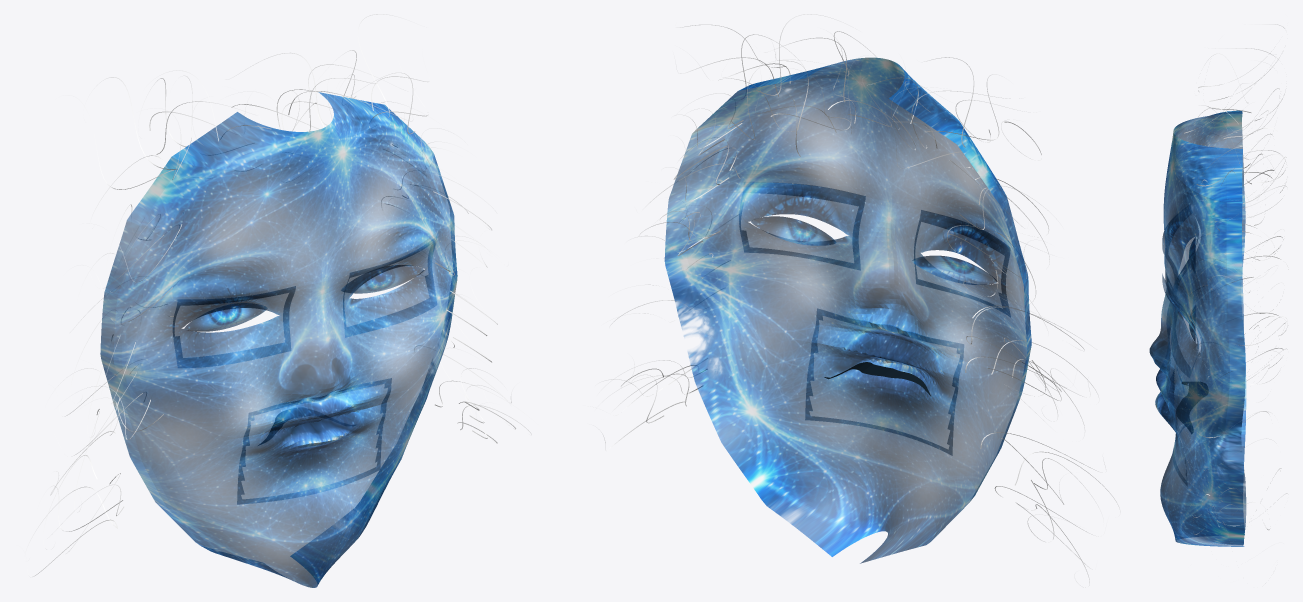
File: reference-mask.glb
3 renders of one model, left to right at view 1: azimuth 30°, elevation 25°; view 2: azimuth 150°, elevation 25°; view 3: azimuth 270°, elevation 25°, orthographic. The views are drawn at different scales.
Parts seen in each view (by area): view 1: Reference002Mask; view 2: Reference002Mask; view 3: Reference002Mask.
Boxes of the visible parts, x1,y1,x2,y2 form: Reference002Mask: (24,14,530,587); Reference002Mask: (604,14,1120,586); Reference002Mask: (1149,24,1288,566).
Size of the model in its own units: 0.3 by 0.2974 by 0.0824.
Materials: 4 (2 with a texture image).
